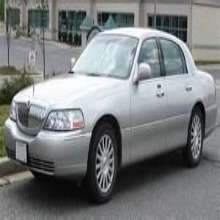no damage: (4, 27, 216, 203)
